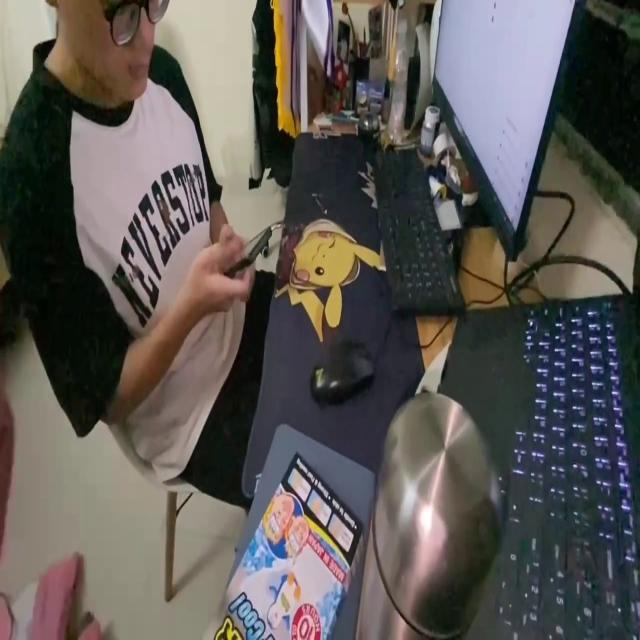laptop: (430, 2, 587, 262)
phone: (225, 228, 277, 272)
student: (2, 0, 269, 501)
